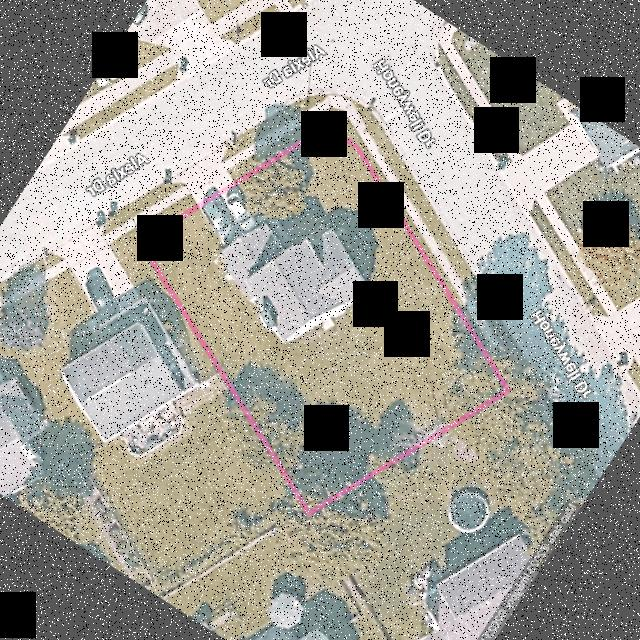Driveway: (200, 184, 261, 247)
Extra Driveway: (169, 142, 234, 204)
Extra Lawn: (353, 100, 536, 382), (335, 107, 515, 390), (227, 106, 351, 180), (221, 93, 327, 162), (132, 192, 197, 240), (119, 181, 186, 221)
Extra Sidewalk: (328, 94, 523, 388), (223, 94, 335, 169), (126, 185, 191, 230)
House: (222, 222, 368, 341)
Other: (323, 317, 335, 328)
Sidewalk: (334, 226, 376, 296), (255, 213, 293, 247), (298, 225, 339, 242)
